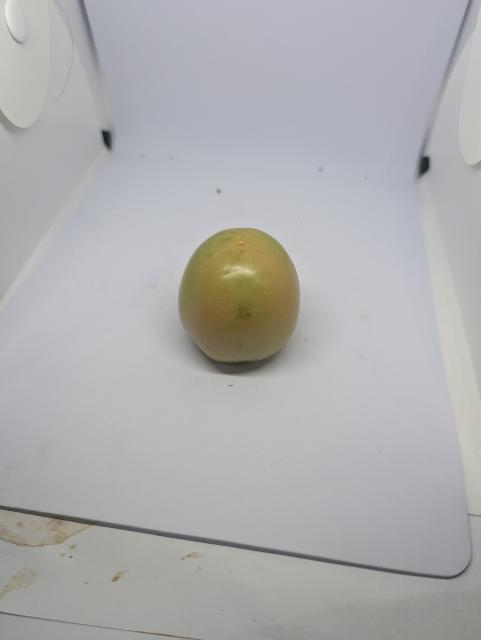breaker: (175, 224, 307, 367)
